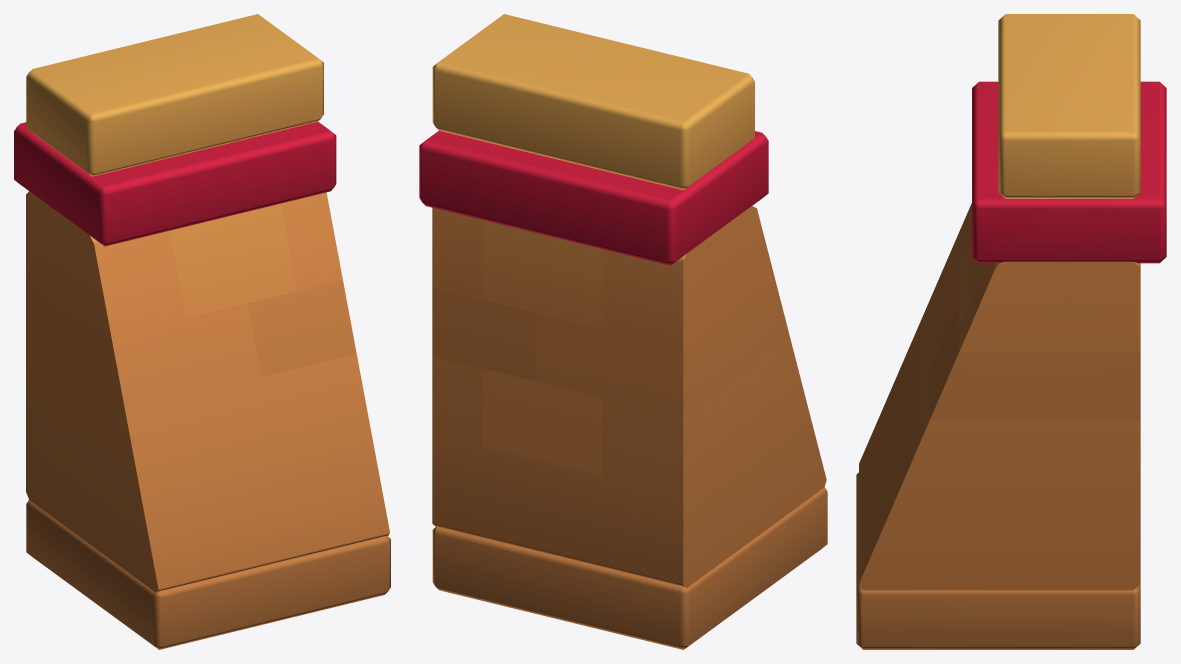
Rendered from wall_floor_slanted_1.fbx.
3 views of the same model, side by side, from view 1: azimuth 30°, elevation 25°; view 2: azimuth 150°, elevation 25°; view 3: azimuth 270°, elevation 25° (orthographic). The views are drawn at different scales.
Visible parts, largest first — view 1: wall_floor_slanted_1; view 2: wall_floor_slanted_1; view 3: wall_floor_slanted_1.
Part boxes in pixels (x1,y1,x2,y2): wall_floor_slanted_1: (14, 14, 390, 649); wall_floor_slanted_1: (419, 14, 827, 649); wall_floor_slanted_1: (856, 14, 1166, 649).
Bounding box in the file's own units: 205 × 402 × 218.
